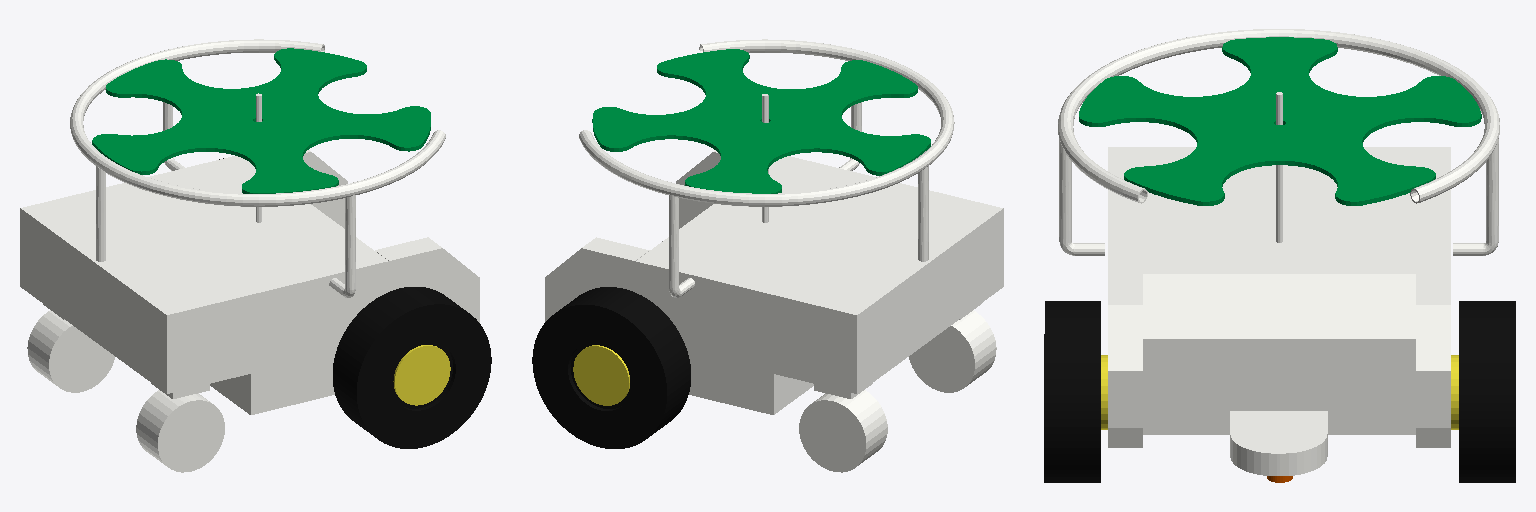
URDF robot description (trooper):
<?xml version="1.0"?>
<robot name="trooper" xmlns:xacro="http://ros.org/wiki/xacro">


<!-- Color materials (Compatible with Rviz but not yet with Gazebo) -->
	<material name="greenish">
		<color rgba="0 0.612 0.306 1"/>
	</material>
	 
	<material name="whiteish">
		<color rgba="1 1 0.98 1"/>
	</material>

	<material name="rubber">
		<color rgba="0.1 0.1 0.1 1"/>
	</material>


<!-- LINKS -->

<!-- CHASSIS -->  
	<link name="trooper__chassis">
    <inertial>
      <mass value="40"/>
      <origin rpy="0  0  0" xyz="0  0  0"/>
      <inertia ixx="1.0" ixy="0.0" ixz="0.0" iyy="1.0" iyz="0.0" izz="1.0"/>
    </inertial>
    <collision>
      <origin rpy="0  0  0" xyz="0    0    0"/>
      <geometry>
        <mesh filename="package://trooper_description/meshes/stl/chassis.stl" scale="0.01 0.01 0.01"/>
      </geometry>
    </collision>
    <visual>
      <origin rpy="0  0  0" xyz="0    0    0"/>
      <geometry>
        <mesh filename="package://trooper_description/meshes/stl/chassis.stl" scale="0.01 0.01 0.01"/>
      </geometry>
			<material name="whiteish"/>
    </visual>
  </link>

	<gazebo reference="trooper__chassis">
		<material>Gazebo/White</material>
	</gazebo>




<!-- DRIVE WHEEL -->

  <link name="trooper__left_wheel">
    <inertial>
      <mass value="1"/>
      <origin rpy="0  0  0" xyz="0  0  0"/>
      <inertia ixx="1.0" ixy="0.0" ixz="0.0" iyy="1.0" iyz="0.0" izz="1.0"/>
    </inertial>
    <collision>
      <origin rpy="1.5707  0  0" xyz="0  0  0"/>
      <geometry>
        <cylinder radius="0.15" length="0.1" />
      </geometry>
    </collision>
    <visual>
      <origin rpy="0  0  0" xyz="0  0  0"/>
      <geometry>
        <mesh filename="package://trooper_description/meshes/stl/drive_wheel.stl" scale="0.01 0.01 0.01"/>
      </geometry>
			<material name="rubber"/>
    </visual>
  </link>

	<!-- Set PID coeff for left wheel -->
	<gazebo reference="trooper__left_wheel">
		<material>Gazebo/Grey </material>
		<mu1 value="200"/>
		<mu2 value="100"/>
		<kp value="10000000.0" />
		<kd value="1.0" />
		<maxVel>0.0</maxVel>
		<minDepth>0.001</minDepth>
	</gazebo>


  <link name="trooper__right_wheel">
    <inertial>
      <mass value="1"/>
      <origin rpy="0  0  0" xyz="0  0  0"/>
      <inertia ixx="1.0" ixy="0.0" ixz="0.0" iyy="1.0" iyz="0.0" izz="1.0"/>
    </inertial>
    <collision>
      <origin rpy="1.5707  0  0" xyz="0  0  0"/>
      <geometry>
        <cylinder radius="0.15" length="0.1" />
      </geometry>
    </collision>
    <visual>
      <origin rpy="0  0  0" xyz="0  0  0"/>
      <geometry>
        <mesh filename="package://trooper_description/meshes/stl/drive_wheel.stl" scale="0.01 0.01 0.01"/>
      </geometry>
			<material name="rubber"/>
    </visual>
  </link>

	<!-- Set PID coeff for right wheel -->
	<gazebo reference="trooper__right_wheel">
		<material>Gazebo/Grey </material>
		<mu1 value="200"/>
		<mu2 value="100"/>
		<kp value="10000000.0" />
		<kd value="1.0" />
		<maxVel>0.0</maxVel>
		<minDepth>0.001</minDepth>
	</gazebo>


  <link name="trooper__rim">
    <origin rpy="0.0 0.0 0.0" xyz="0.0 0.0 0.0" />
    <visual>
      <geometry>
        <cylinder radius="0.06" length="0.74" />
      </geometry>
    </visual>
  </link>

	<gazebo reference="trooper__rim">
		<material>Gazebo/Red</material>
	</gazebo>





<!-- PLATFORM -->
  <link name="trooper__platform">
    <inertial>
      <mass value="10"/>
      <origin rpy="0  0  0" xyz="0  0  0"/>
      <inertia ixx="1.0" ixy="0.0" ixz="0.0" iyy="1.0" iyz="0.0" izz="1.0"/>
    </inertial>
    <collision>
      <origin rpy="0  0  0" xyz="0.09  0    0"/>
      <geometry>
        <mesh filename="package://trooper_description/meshes/stl/platform_5x4L.stl" scale="0.01 0.01 0.01"/>
      </geometry>
    </collision>
    <visual>
      <origin rpy="0  0  0" xyz="0.09  0    0"/>
      <geometry>
        <mesh filename="package://trooper_description/meshes/stl/platform_5x4L.stl" scale="0.01 0.01 0.01"/>
      </geometry>
			<material name="greenish"/>
    </visual>
  </link>

	<gazebo reference="trooper__platform">
		<material>Gazebo/Green</material>
	</gazebo>





<!-- SENSORS -->

	<link name="hokuyo_link">
		<collision>
		  <origin xyz="0 0 0" rpy="0 0 0"/>
		  <geometry>
		    <box size="0.05 0.05 0.041"/>
		  </geometry>
		</collision>
		<visual>
		  <origin xyz="0 0 0" rpy="0 0 0"/>
		  <geometry>
		    <cylinder length="0.029" radius="0.021"/>
		  </geometry>
		</visual>
		<inertial>
		  <mass value="0.1" />
		  <origin xyz="0 0 0" rpy="0 0 0"/>
		  <inertia ixx="1" ixy="0" ixz="0" iyy="1" iyz="0" izz="1" />
		</inertial>
	</link>





<!-- JOINTS -->  

	<joint name="trooper__left_wheel_to_chassis" type="continuous">
    <parent link="trooper__chassis"/>
    <child link="trooper__left_wheel"/>
    <origin rpy="1.5707  1.5707  1.5707" xyz="0.14  0.33  0.15"/>
    <axis xyz="0   1   0"/>
    <limit effort="50" velocity="100"/>
		<dynamics damping="0.7" friction="100" />
  </joint>

 	<joint name="trooper__right_wheel_to_chassis" type="continuous">
    <parent link="trooper__chassis"/>
    <child link="trooper__right_wheel"/>
    <origin rpy="1.5707 -1.5707  1.5707" xyz="0.14 -0.33  0.15"/>
    <axis xyz="0  -1  0"/>
    <limit effort="50" velocity="100"/>
		<dynamics damping="0.7" friction="100" />
  </joint>


	<joint name="trooper__rim_to_chassis" type="fixed">
    <parent link="trooper__chassis"/>
    <child link="trooper__rim"/>
    <origin rpy="1.5707 0 0" xyz="0.14 0 0.15"/>
    <axis xyz="0 0 0"/>
  </joint>

	<joint name="trooper__platform_to_chassis" type="continuous">
    <parent link="trooper__chassis"/>
    <child link="trooper__platform"/>
    <origin rpy="0  0  1.5707" xyz="0  0  0.55"/>
    <axis xyz="0  0  1"/>
    <limit effort="10" velocity="100"/>
  </joint>

  <property name="hokuyo_link" value="0.15" />
  <joint name="hokuyo_joint" type="fixed">
    <axis xyz="0 1 0" />
    <origin xyz="0.28 0 0.08" rpy="0 0 0"/>
    <parent link="trooper__chassis"/>
    <child link="hokuyo_link"/>
  </joint>






<!--  GAZEBO plugin for Laser -->	
  <gazebo reference="hokuyo_link">
    <sensor type="ray" name="head_hokuyo_sensor">
      <pose>0 0 0 0 0 0</pose>
      <visualize>true</visualize>
      <update_rate>30</update_rate>
      <ray>
        <scan>
          <horizontal>
            <samples>60</samples>
            <resolution>1</resolution>
            <min_angle>-1.5707</min_angle>
            <max_angle>1.5707</max_angle>
          </horizontal>
        </scan>
        <range>
          <min>0.10</min>
          <max>30.0</max>
          <resolution>0.01</resolution>
        </range>
        <noise>
          <type>gaussian</type>
          <!-- Noise parameters based on published spec for Hokuyo laser
               achieving "+-30mm" accuracy at range < 10m.  A mean of 0.0m and
               stddev of 0.01m will put 99.7% of samples within 0.03m of the true
               reading. -->
          <mean>0.0</mean>
          <stddev>0.01</stddev>
        </noise>
      </ray>
      <plugin name="gazebo_ros_head_hokuyo_controller" filename="libgazebo_ros_laser.so">
        <topicName>/laser/scan</topicName>
        <frameName>hokuyo_link</frameName>
      </plugin>
    </sensor>
  </gazebo>






<!--  GAZEBO plugin for ROS Control -->
	<gazebo>
		<plugin name="gazebo_ros_control" filename="libgazebo_ros_control.so">
		<robotNamespace>/</robotNamespace>
		</plugin>
	</gazebo>



<!-- TRANSMISSIONS -->
  <transmission name="trooper__platform_to_chassis_trans">
    <type>transmission_interface/SimpleTransmission</type>
    <actuator name="trooper__platform_state">
      <mechanicalReduction>1</mechanicalReduction>
    </actuator>
    <joint name="trooper__platform_to_chassis">
      <hardwareInterface>PositionJointInterface</hardwareInterface>
    </joint>
  </transmission>

  <transmission name="trooper__left_wheel_to_chassis_trans">
    <type>transmission_interface/SimpleTransmission</type>
    <actuator name="trooper__left_wheel_state">
      <mechanicalReduction>1</mechanicalReduction>
    </actuator>
    <joint name="trooper__left_wheel_to_chassis">
      <hardwareInterface>VelocityJointInterface</hardwareInterface>
    </joint>
  </transmission>

  <transmission name="trooper__right_wheel_to_chassis_trans">
    <type>transmission_interface/SimpleTransmission</type>
    <actuator name="trooper__right_wheel_state">
      <mechanicalReduction>1</mechanicalReduction>
    </actuator>
    <joint name="trooper__right_wheel_to_chassis">
      <hardwareInterface>VelocityJointInterface</hardwareInterface>
    </joint>
  </transmission>




</robot>

--- What the picture shows (computed from the rendered views, not written in the file) ---
The picture shows the robot from 3 angles, left to right: view 1: azimuth 30°, elevation 25°; view 2: azimuth 150°, elevation 25°; view 3: azimuth 270°, elevation 25°; orthographic projection.
Robot: trooper — 6 links, 5 joints (3 continuous, 2 fixed); root link trooper__chassis; default pose: every joint at zero.
Links seen in each view (by area): view 1: trooper__chassis, trooper__platform, trooper__right_wheel, trooper__rim; view 2: trooper__chassis, trooper__platform, trooper__left_wheel, trooper__rim; view 3: trooper__chassis, trooper__platform, trooper__left_wheel, trooper__right_wheel, trooper__rim.
Boxes of the visible links, box(x1,y1,x2,y2) form: trooper__chassis: box(20, 39, 479, 472); trooper__platform: box(92, 48, 430, 193); trooper__right_wheel: box(333, 287, 491, 448); trooper__rim: box(393, 345, 450, 405); trooper__chassis: box(545, 39, 1003, 472); trooper__platform: box(592, 49, 930, 193); trooper__left_wheel: box(532, 287, 690, 448); trooper__rim: box(573, 345, 629, 405); trooper__chassis: box(1058, 29, 1499, 475); trooper__platform: box(1079, 37, 1481, 205); trooper__left_wheel: box(1459, 301, 1515, 482); trooper__right_wheel: box(1044, 301, 1100, 482); trooper__rim: box(1101, 355, 1458, 429).
Bounding box of the posed robot: 0.7174 × 0.75 × 0.6092 m (x, y, z).
4 mesh visuals loaded from 3 distinct referenced files (3 binary STL).
